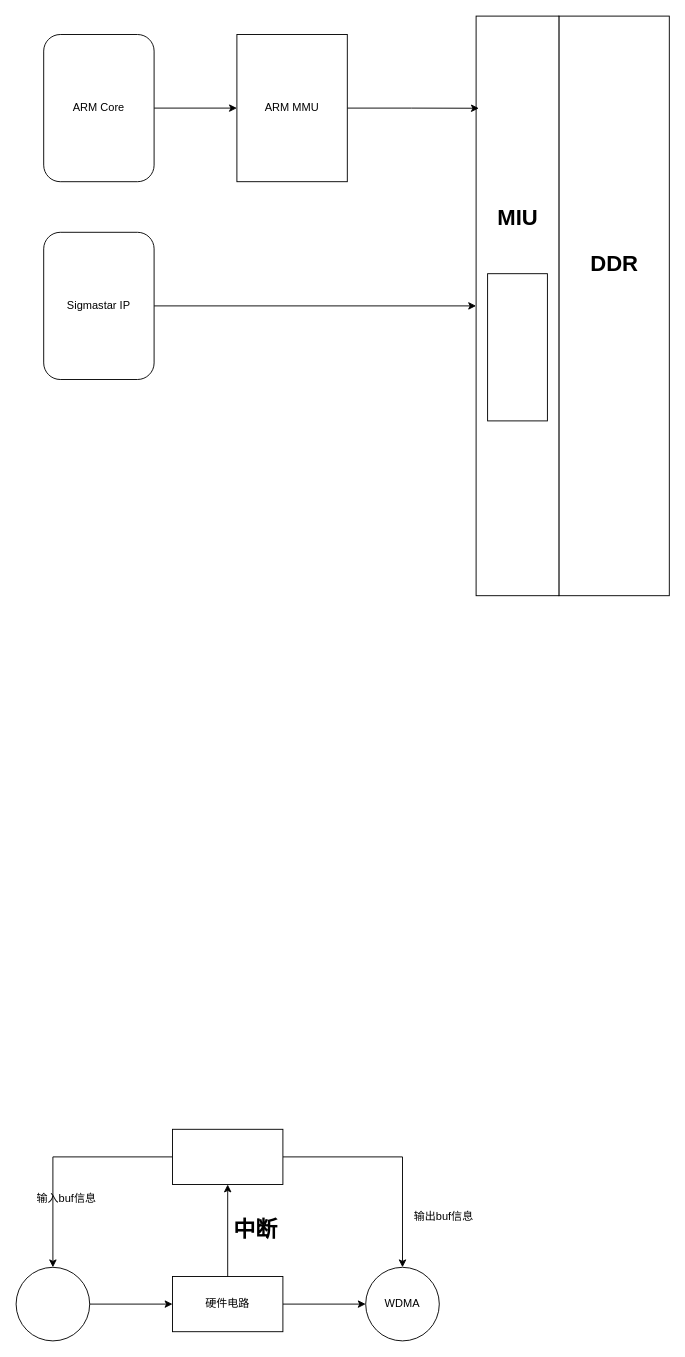
Some shapes in this 685 by 1357 pixel diagram are drawn without their labels. The centre of each missing label's shape, as x and y in pixels:
IO MMU: (517,347)
RDMA: (52,1303)
线程: (227,1156)
